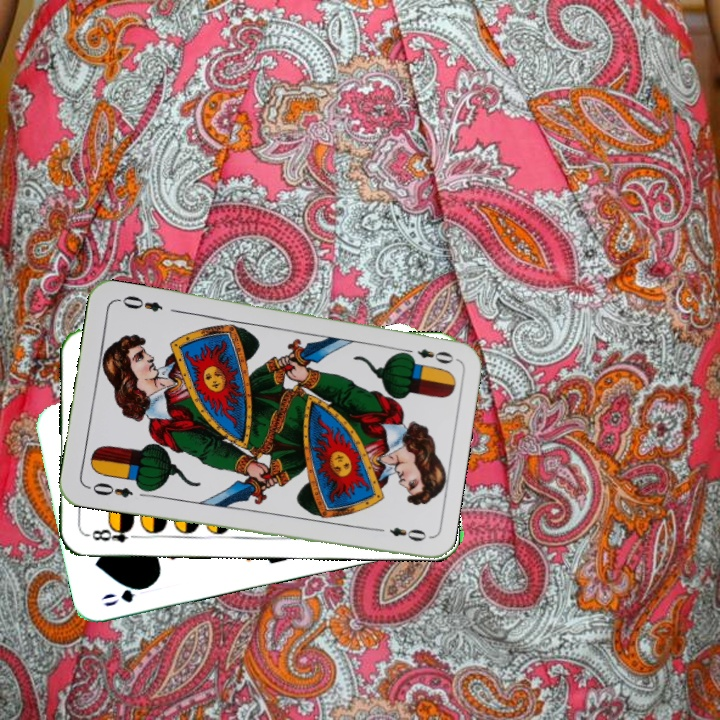E8: (83, 521, 143, 545)
EO: (398, 344, 456, 366), (83, 478, 136, 501)
GO: (97, 579, 155, 609)
